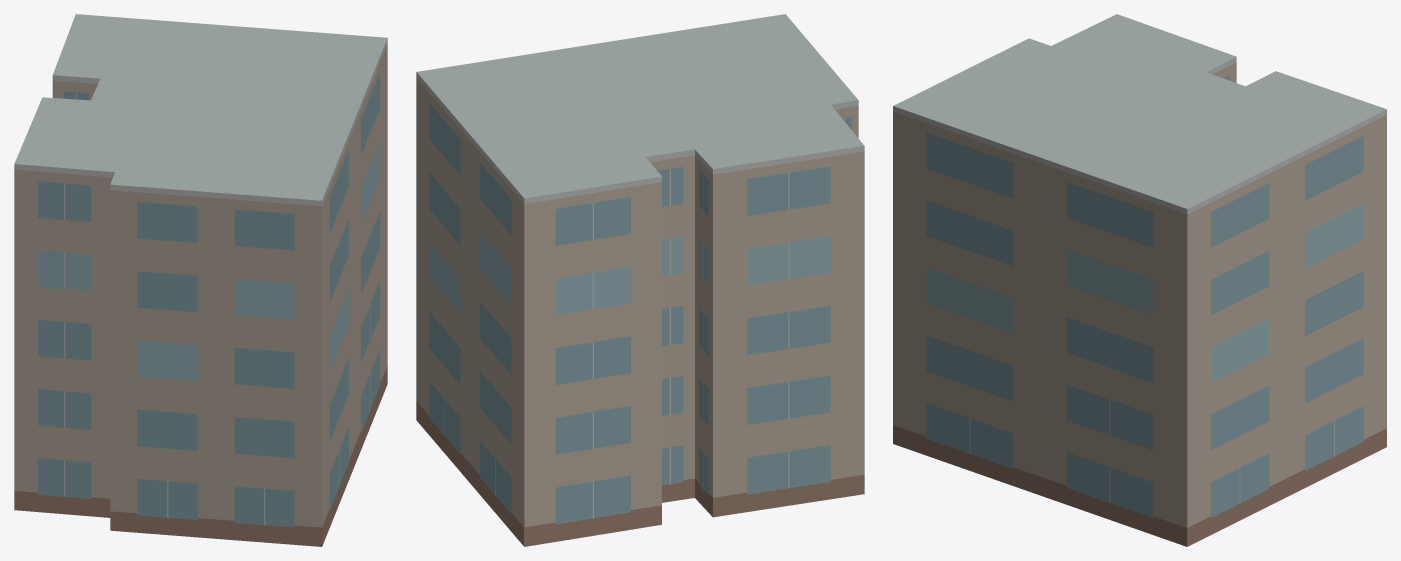
File: survey-upis-32894144.glb
The picture shows the model from 3 angles, left to right: view 1: azimuth 30°, elevation 25°; view 2: azimuth 150°, elevation 25°; view 3: azimuth 270°, elevation 25°; orthographic projection. The views are drawn at different scales.
Visible parts, largest first — view 1: survey-upis-32894144.tmp; view 2: survey-upis-32894144.tmp; view 3: survey-upis-32894144.tmp.
Part boxes in pixels (x1=…): survey-upis-32894144.tmp: x1=14, y1=14, x2=387, y2=546; survey-upis-32894144.tmp: x1=416, y1=14, x2=864, y2=546; survey-upis-32894144.tmp: x1=893, y1=14, x2=1386, y2=546.
Bounding box in the file's own units: 18.69 × 15.1 × 20.01.
